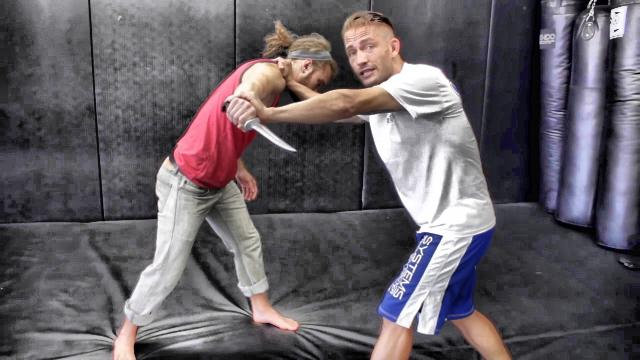knife: (218, 100, 298, 156)
